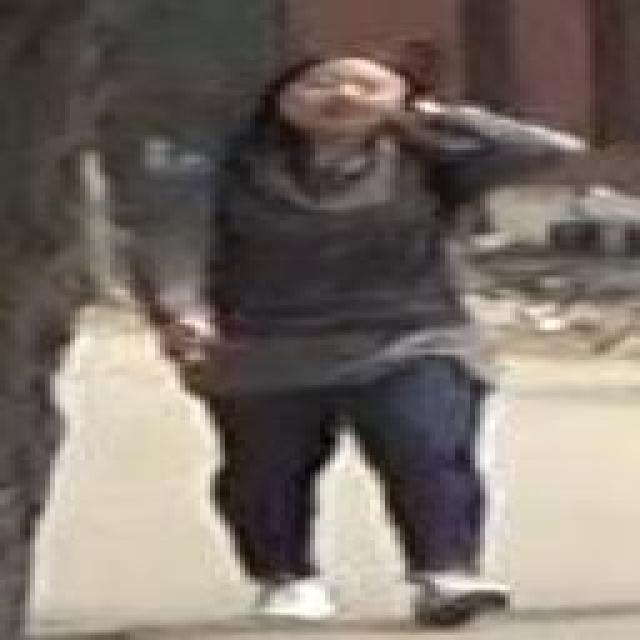adult: (106, 54, 574, 620)
